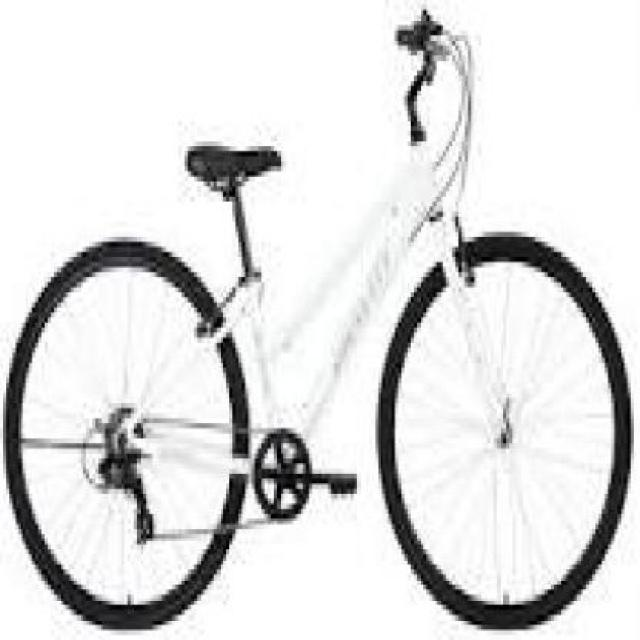bicycle: (1, 12, 640, 640)
